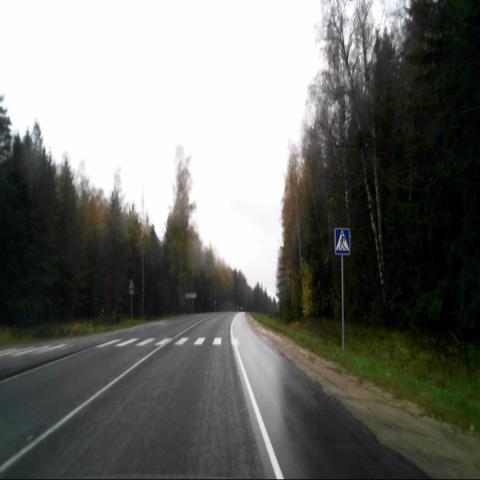5_19_1: (333, 227, 351, 260)
